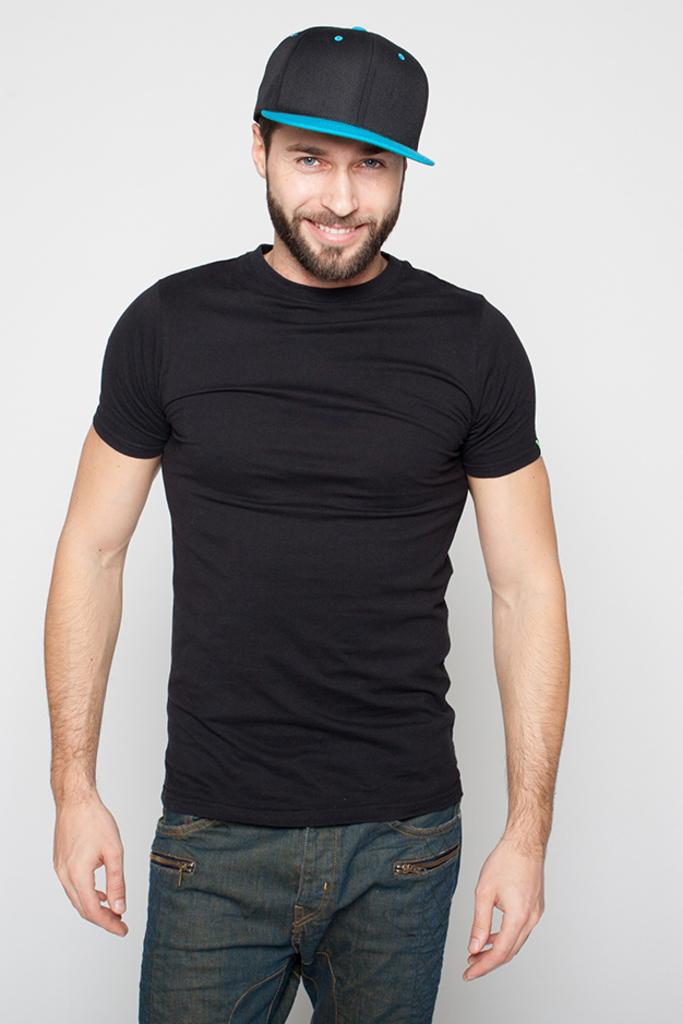Hat: (249, 23, 431, 169)
